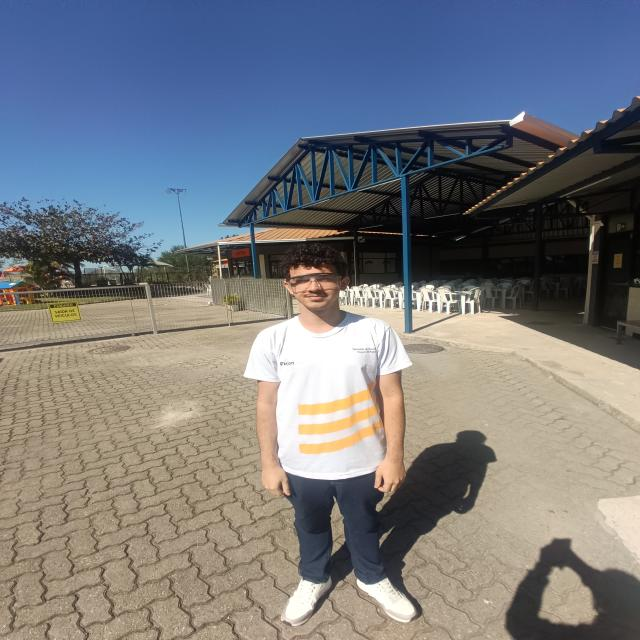oculos-epi: (285, 272, 342, 291)
